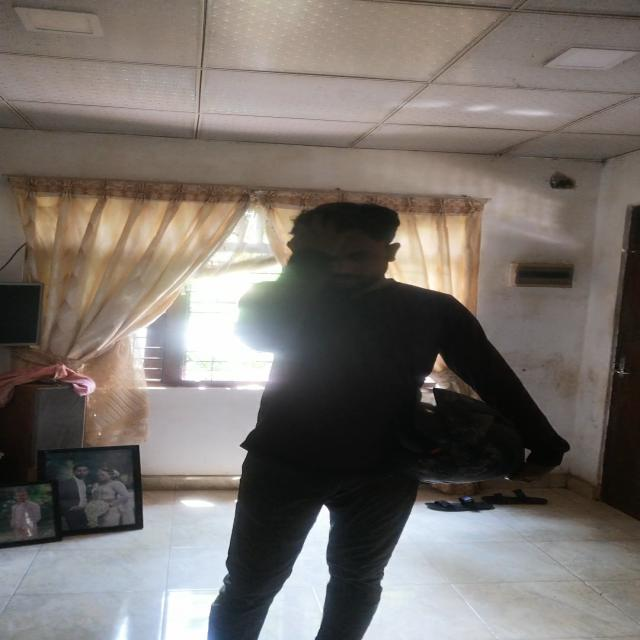Person: (213, 199, 553, 640)
